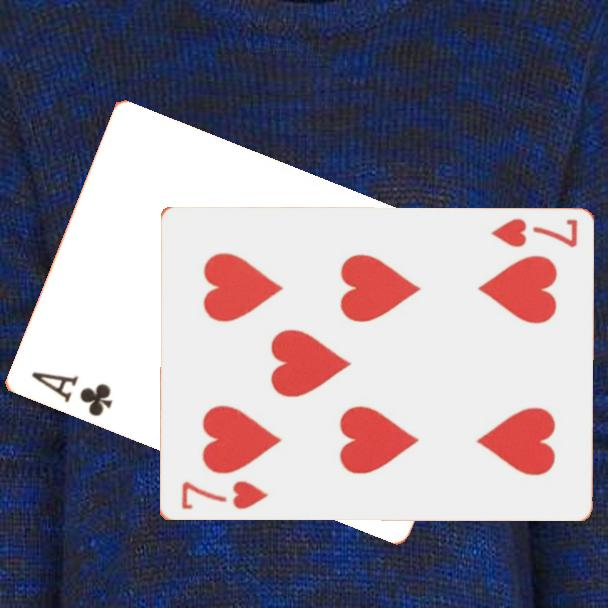c01: (27, 368, 115, 420)
h07: (177, 478, 271, 513), (487, 216, 580, 251)
